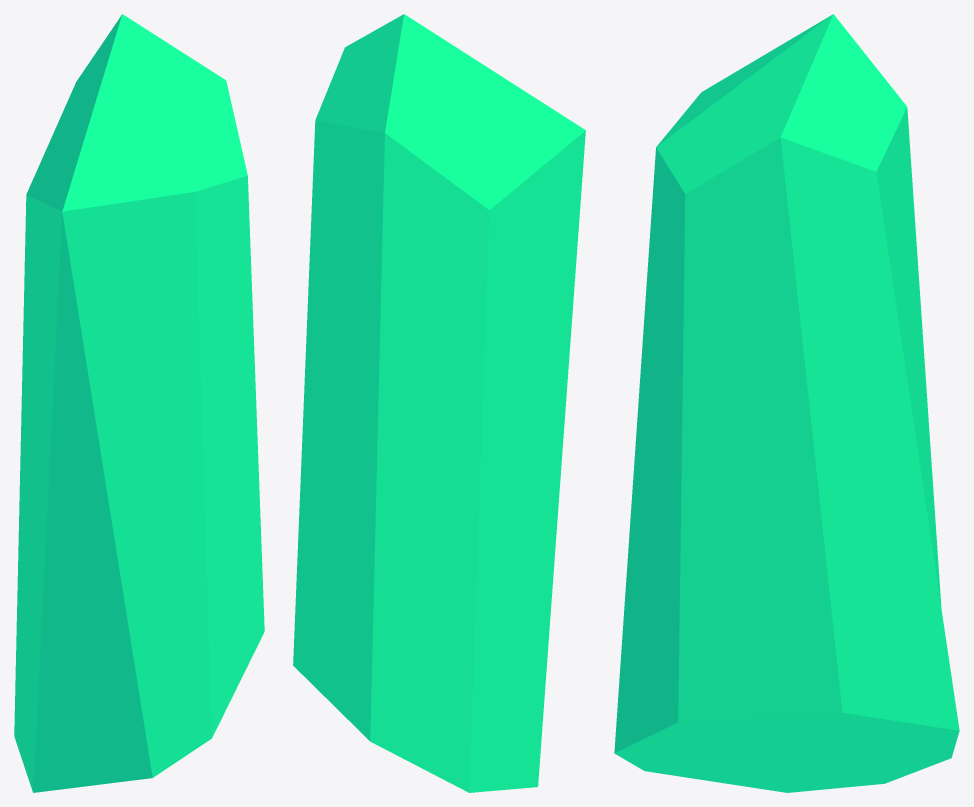
The model's file is crystal5.fbx.
3 views of the same model, side by side, from view 1: azimuth 30°, elevation 25°; view 2: azimuth 150°, elevation 25°; view 3: azimuth 270°, elevation 25° (orthographic). The views are drawn at different scales.
Parts seen in each view (by area): view 1: crystal5; view 2: crystal5; view 3: crystal5.
Part boxes in pixels (bbox=[...]): crystal5: bbox=[14, 14, 264, 792]; crystal5: bbox=[293, 14, 585, 792]; crystal5: bbox=[614, 14, 959, 792].
Size of the model in its own units: 202 by 655 by 244.
